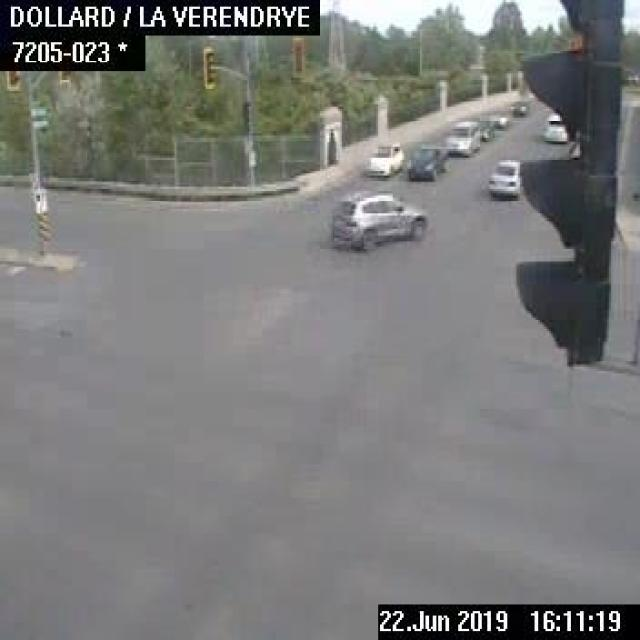vehicle: (327, 190, 428, 253), (404, 143, 450, 181), (360, 140, 405, 175), (444, 117, 482, 155), (484, 156, 518, 196), (538, 114, 566, 142), (486, 108, 510, 130), (510, 98, 533, 117)
